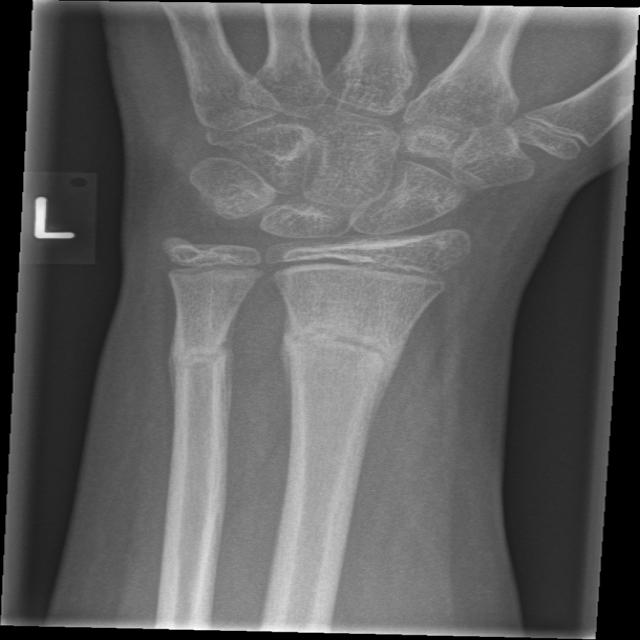radius fracture: (265, 296, 432, 470)
ulna fracture: (138, 307, 268, 445)
